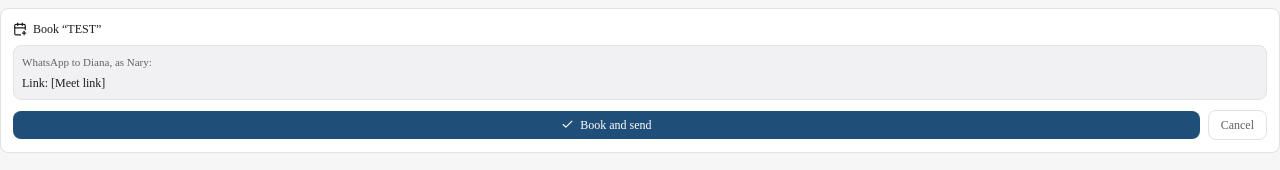
Test case: Nary's small cards › says why the link was not sent and hands it over, when the booking worked but the message didn't
Click the button "Book and send": (606, 124) [13,110,1200,138]
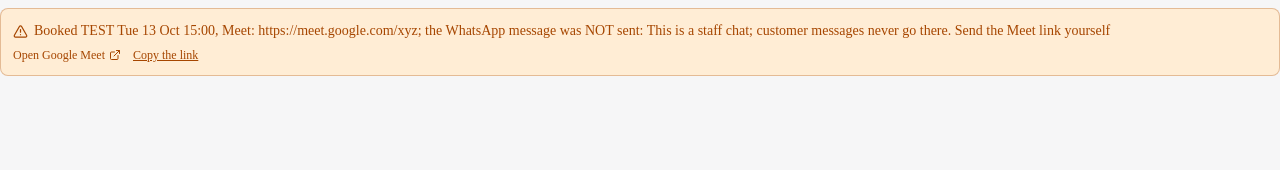
Check: the text "NOT sent: This is a staff chat" is shown, box [34,23,1110,38]
Check: the button "Copy the link" is shown, box [133,47,198,63]
